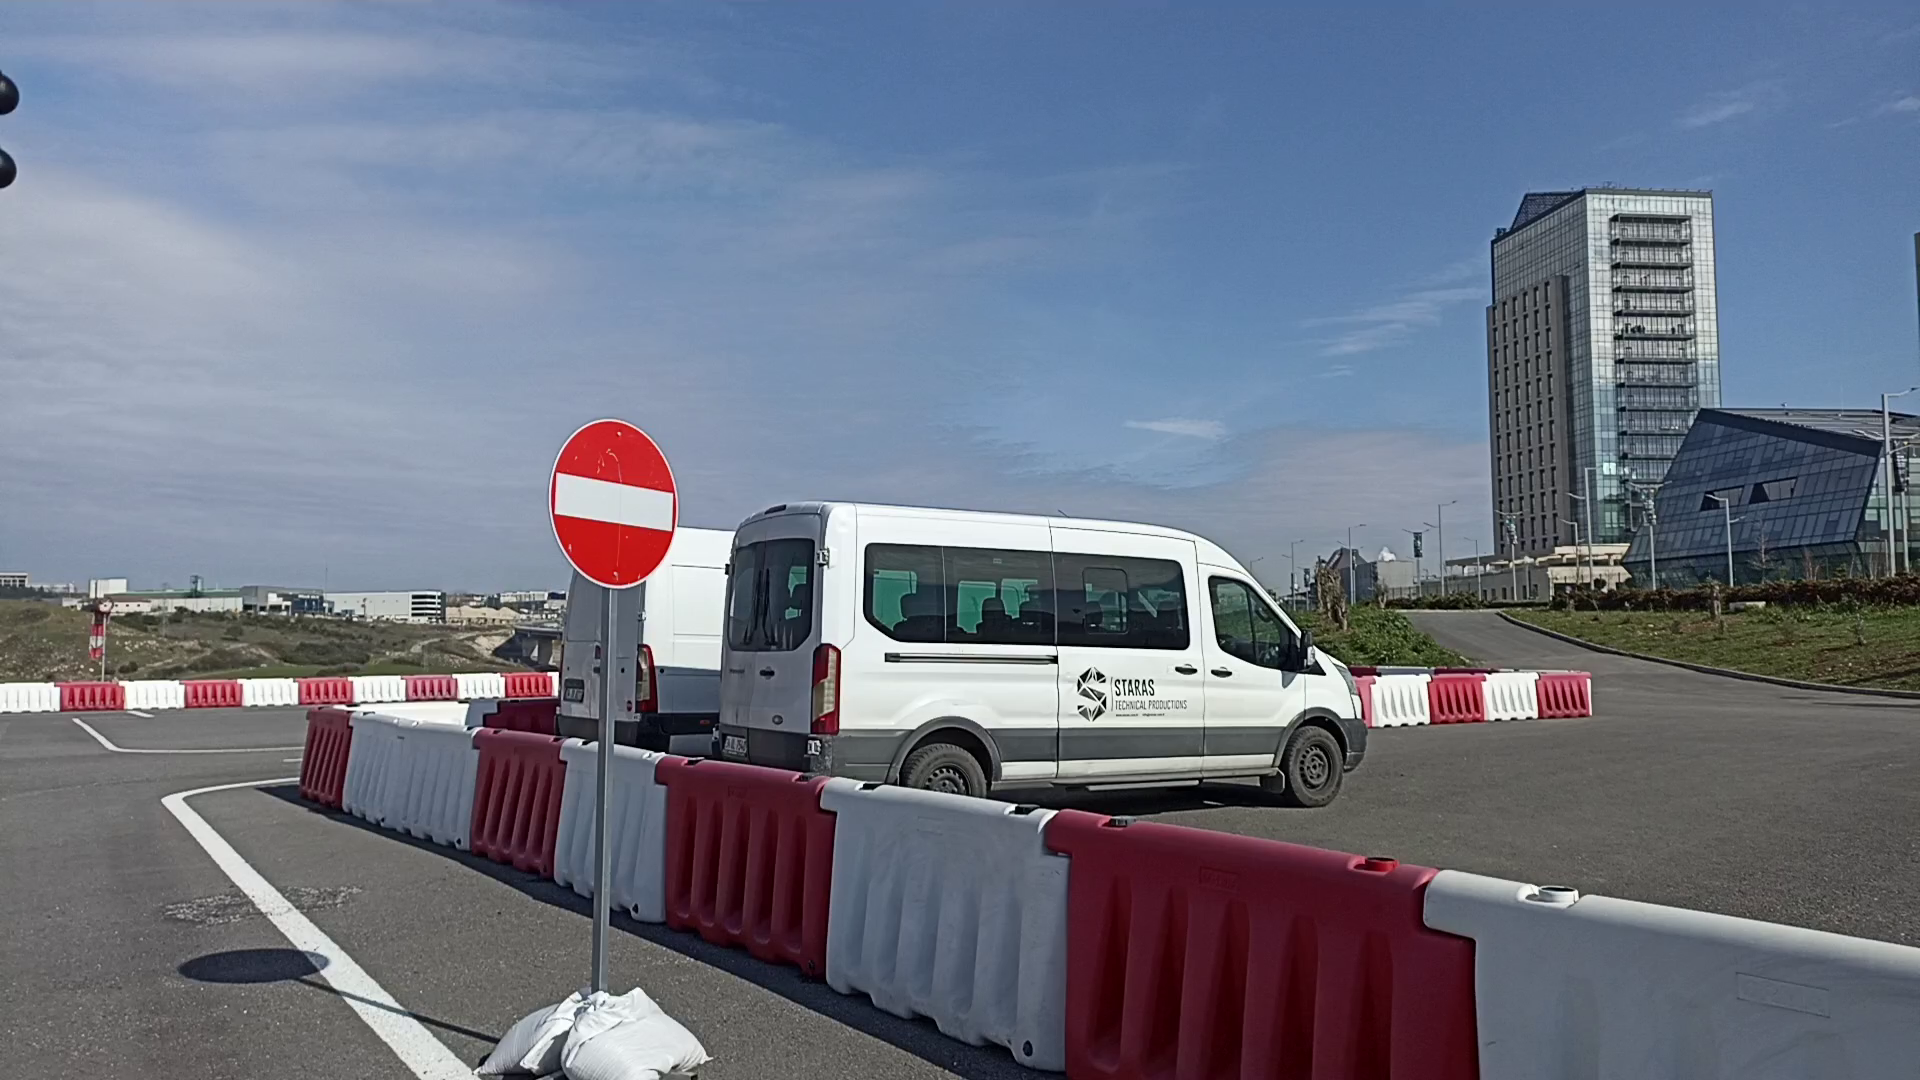noentryway: (549, 414, 684, 593)
